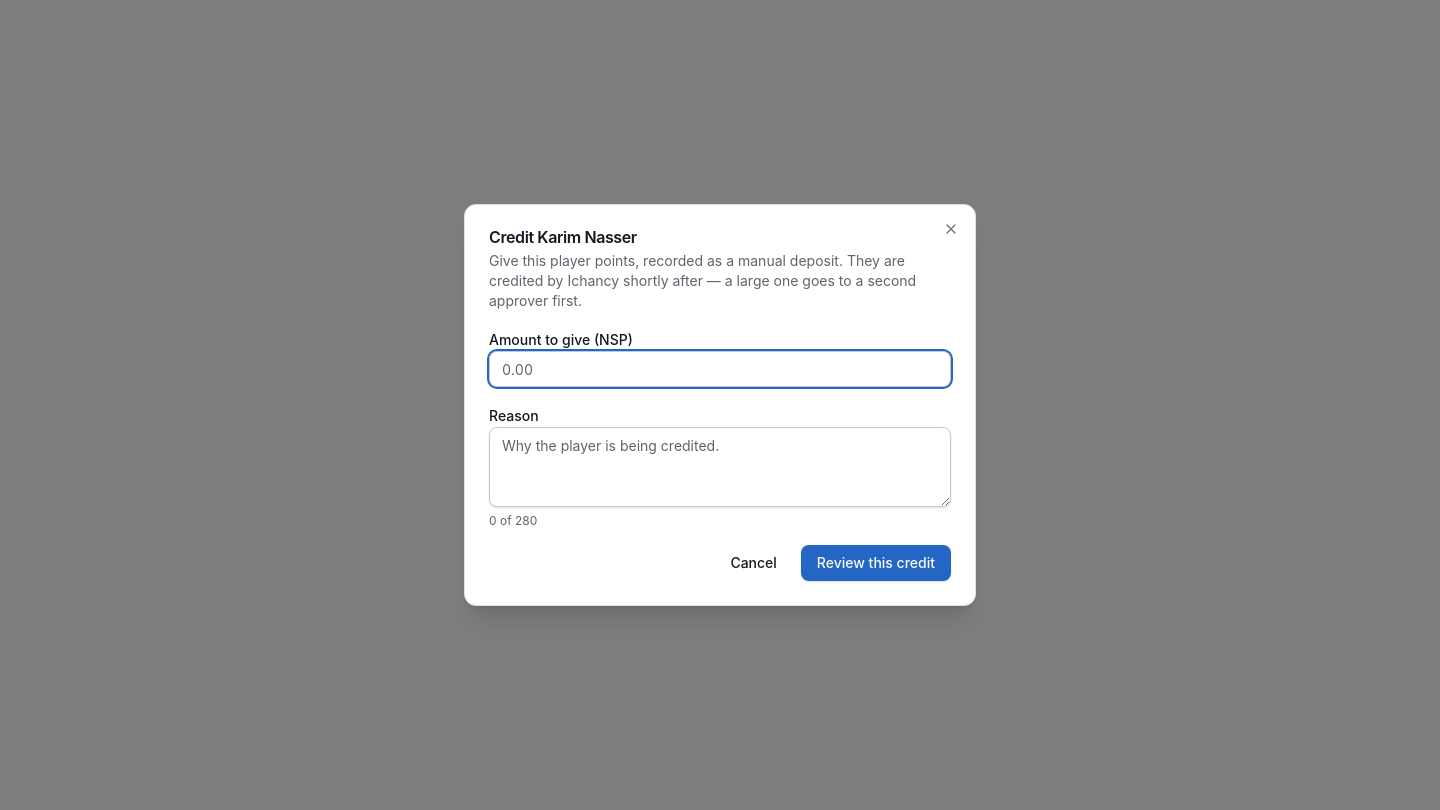
Scenario: CreditPlayerDialog › will not move to the confirmation without an amount and a reason
The width and height of the screenshot is (1440, 810).
Click the button "Review this credit": [876, 563] box [801, 545, 951, 581]
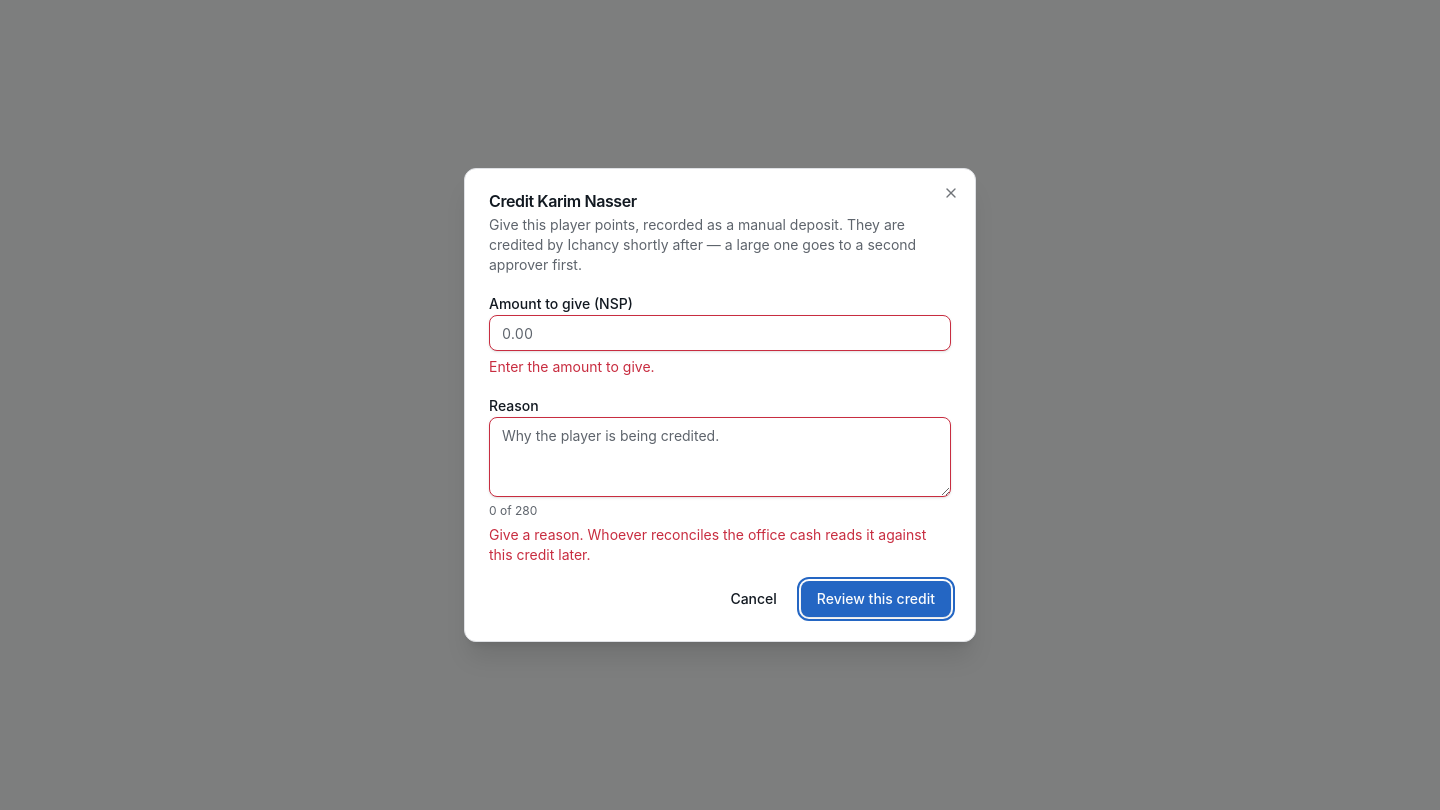
Check: the text "Enter the amount to give." is shown, box [489, 358, 655, 375]
Check: the text "Give a reason." is shown, box [489, 526, 926, 563]
